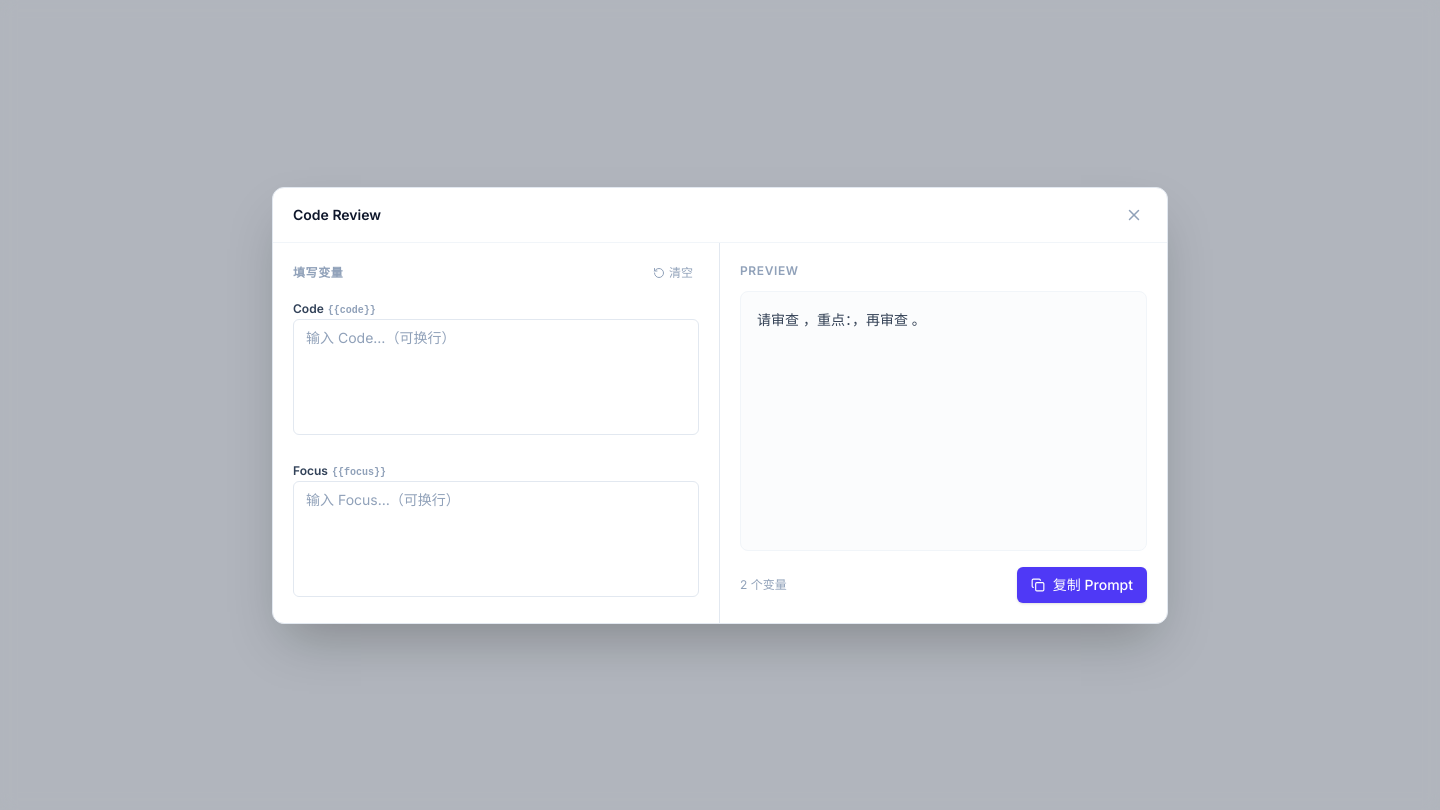
UseModal › replaces repeated variable occurrences live in preview
Type "const a = 1" into the text box labelled "Code{{code}}". click: coordinates (496, 376)
box: x1=293 y1=318 x2=699 y2=434
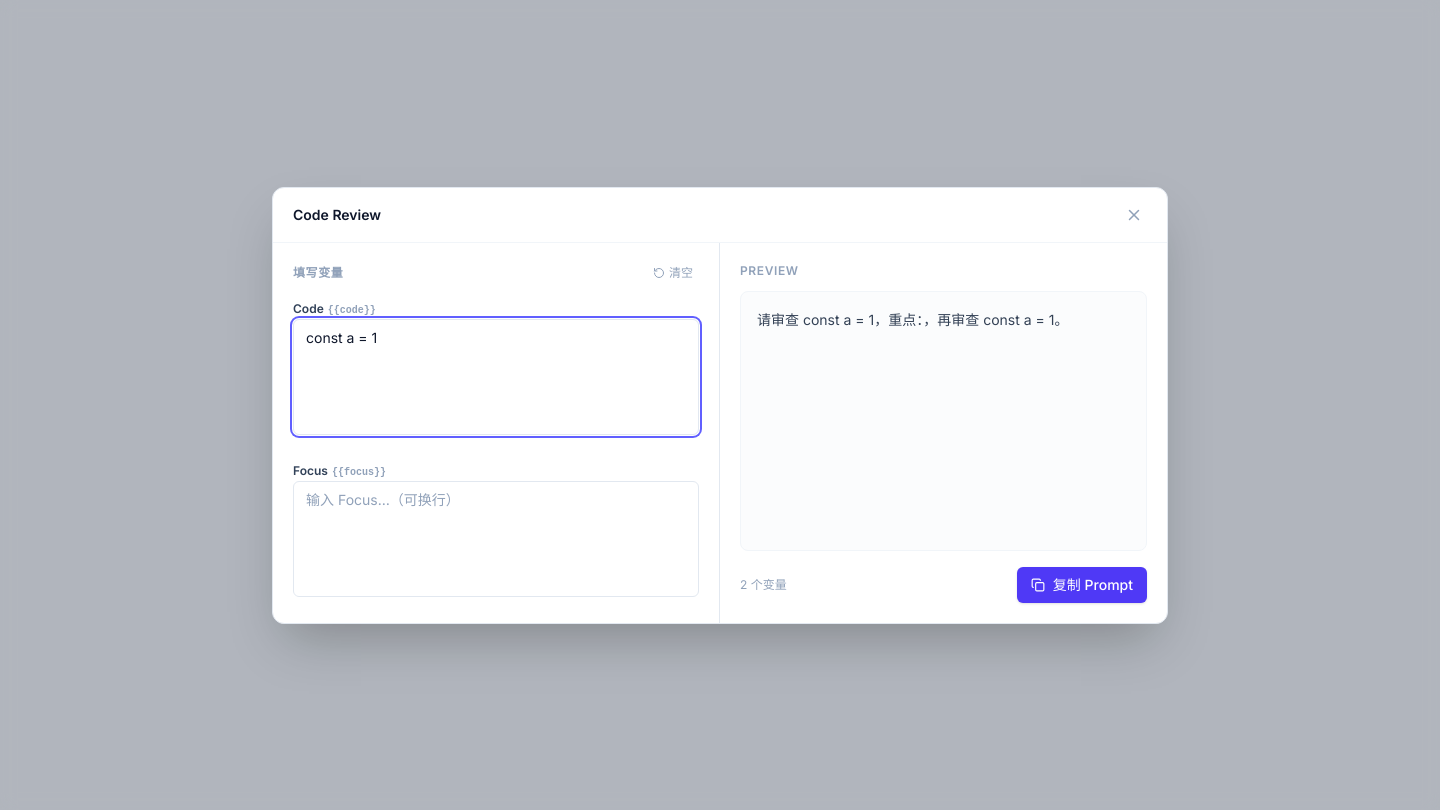
Type "性能" into the text box labelled "Focus{{focus}}". click: coordinates (496, 538)
box: x1=293 y1=480 x2=699 y2=596
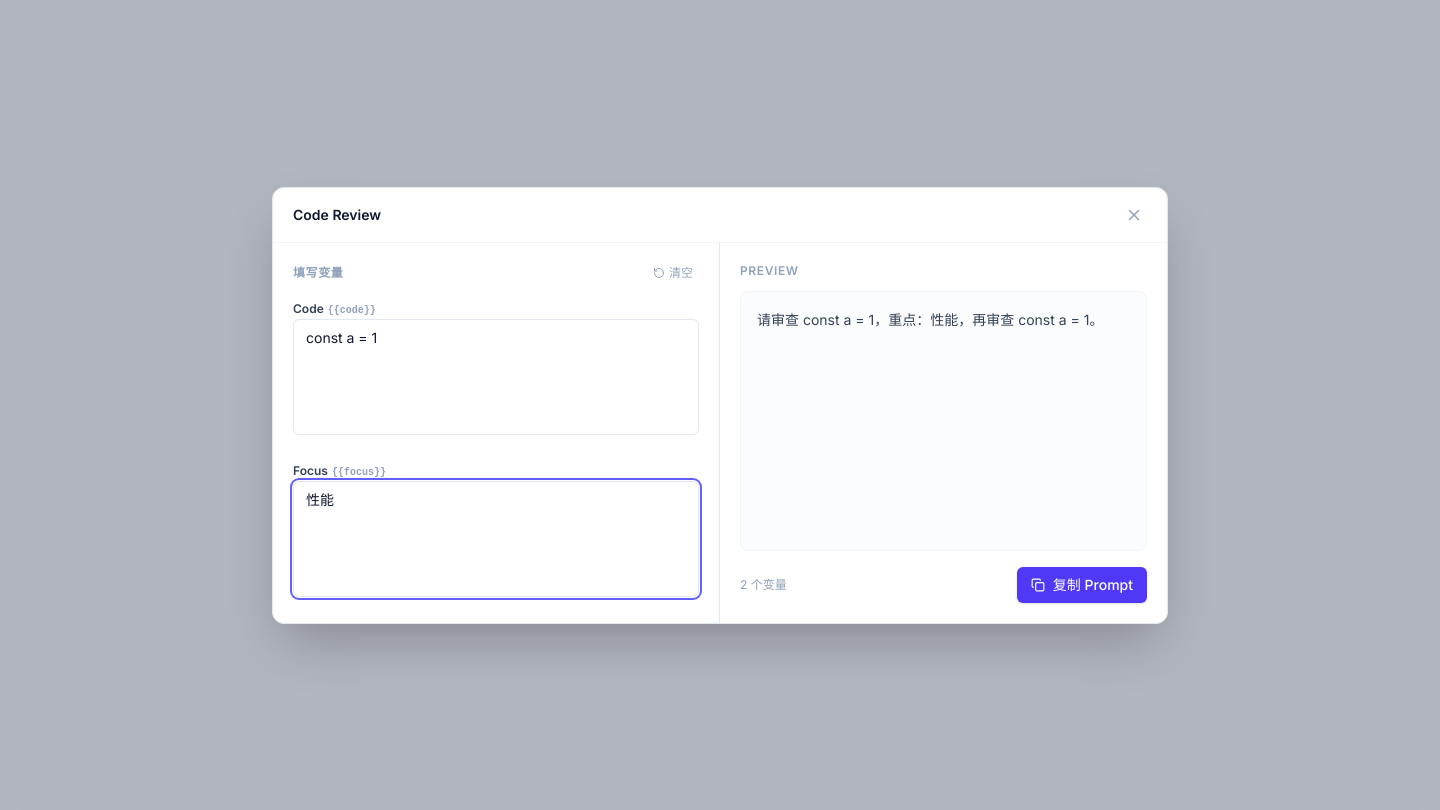
expect the text "请审查 const a = 1，重点：性能，再审查 const a = 1。" is shown: met, box x1=757 y1=308 x2=1130 y2=331
